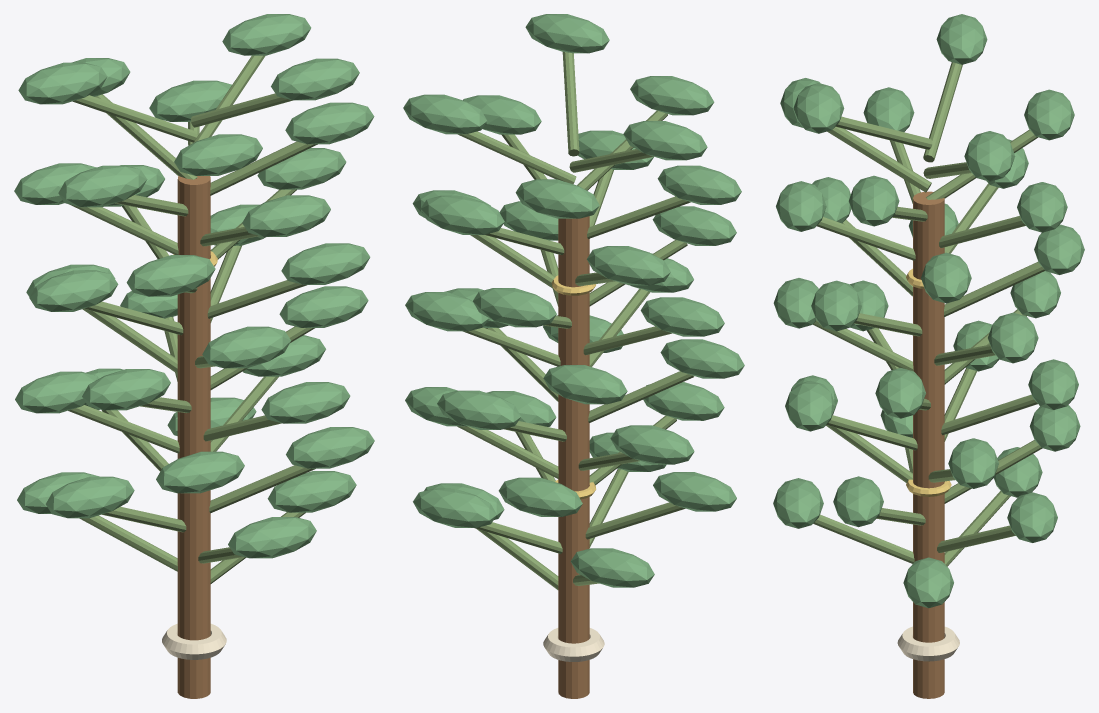
The model's file is ritual_sakaki_branch.glb.
3 views of the same model, side by side, from view 1: azimuth 30°, elevation 25°; view 2: azimuth 150°, elevation 25°; view 3: azimuth 270°, elevation 25° (orthographic). The views are drawn at different scales.
Visible parts, largest first — view 1: Sakaki sacred stem, Sakaki evergreen leaf.030, Sakaki evergreen leaf.015, Sakaki evergreen leaf.031, Sakaki evergreen leaf.007, Sakaki evergreen leaf.025, Sakaki evergreen leaf.026, Sakaki evergreen leaf.004, Sakaki evergreen leaf.010, Sakaki evergreen leaf.017, Sakaki evergreen leaf.005, Sakaki evergreen leaf.028 (+41 smaller); view 2: Sakaki sacred stem, Sakaki evergreen leaf.029, Sakaki evergreen leaf.001, Sakaki evergreen leaf.017, Sakaki evergreen leaf.028, Sakaki evergreen leaf.014, Sakaki evergreen leaf.022, Sakaki evergreen leaf.025, Sakaki evergreen leaf.012, Sakaki evergreen leaf.006, Sakaki evergreen leaf.027, Sakaki evergreen leaf.009 (+40 smaller); view 3: Sakaki sacred stem, Sakaki evergreen leaf.002, Sakaki evergreen leaf.003, Sakaki evergreen leaf.011, Sakaki evergreen leaf.016, Sakaki evergreen leaf.030, Sakaki evergreen leaf.031, Sakaki evergreen leaf, Sakaki evergreen leaf.010, Sakaki evergreen leaf.013, Sakaki evergreen leaf.005, Sakaki evergreen leaf.021 (+44 smaller).
Part boxes in pixels (x1=…): Sakaki sacred stem: x1=177, y1=176, x2=210, y2=698; Sakaki evergreen leaf.030: x1=18, y1=62, x2=107, y2=104; Sakaki evergreen leaf.015: x1=202, y1=326, x2=290, y2=368; Sakaki evergreen leaf.031: x1=271, y1=58, x2=359, y2=100; Sakaki evergreen leaf.007: x1=156, y1=451, x2=244, y2=493; Sakaki evergreen leaf.025: x1=58, y1=165, x2=147, y2=207; Sakaki evergreen leaf.026: x1=285, y1=102, x2=374, y2=144; Sakaki evergreen leaf.004: x1=45, y1=476, x2=134, y2=518; Sakaki evergreen leaf.010: x1=261, y1=382, x2=350, y2=423; Sakaki evergreen leaf.017: x1=29, y1=270, x2=118, y2=311; Sakaki evergreen leaf.005: x1=286, y1=427, x2=374, y2=468; Sakaki evergreen leaf.028: x1=174, y1=134, x2=262, y2=175; Sakaki sacred stem: x1=558, y1=216, x2=589, y2=698; Sakaki evergreen leaf.029: x1=403, y1=94, x2=486, y2=134; Sakaki evergreen leaf.001: x1=570, y1=548, x2=654, y2=587; Sakaki evergreen leaf.017: x1=640, y1=297, x2=724, y2=336; Sakaki evergreen leaf.028: x1=630, y1=76, x2=714, y2=115; Sakaki evergreen leaf.014: x1=543, y1=365, x2=627, y2=404; Sakaki evergreen leaf.022: x1=586, y1=246, x2=670, y2=285; Sakaki evergreen leaf.025: x1=657, y1=165, x2=741, y2=204; Sakaki evergreen leaf.012: x1=660, y1=339, x2=744, y2=378; Sakaki evergreen leaf.006: x1=498, y1=477, x2=582, y2=516; Sakaki evergreen leaf.027: x1=515, y1=179, x2=599, y2=218; Sakaki evergreen leaf.009: x1=610, y1=425, x2=694, y2=464; Sakaki sacred stem: x1=913, y1=191, x2=944, y2=698; Sakaki evergreen leaf.002: x1=773, y1=478, x2=823, y2=528; Sakaki evergreen leaf.003: x1=1007, y1=492, x2=1057, y2=542; Sakaki evergreen leaf.011: x1=1028, y1=359, x2=1078, y2=409; Sakaki evergreen leaf.016: x1=988, y1=312, x2=1038, y2=363; Sakaki evergreen leaf.030: x1=936, y1=14, x2=987, y2=64; Sakaki evergreen leaf.031: x1=793, y1=83, x2=844, y2=133; Sakaki evergreen leaf: x1=903, y1=557, x2=953, y2=608; Sakaki evergreen leaf.010: x1=785, y1=380, x2=835, y2=431; Sakaki evergreen leaf.013: x1=875, y1=368, x2=925, y2=418; Sakaki evergreen leaf.005: x1=833, y1=476, x2=883, y2=527; Sakaki evergreen leaf.021: x1=921, y1=252, x2=971, y2=303.
Bounding box in the file's own units: 0.9857 × 1.95 × 0.8748.
